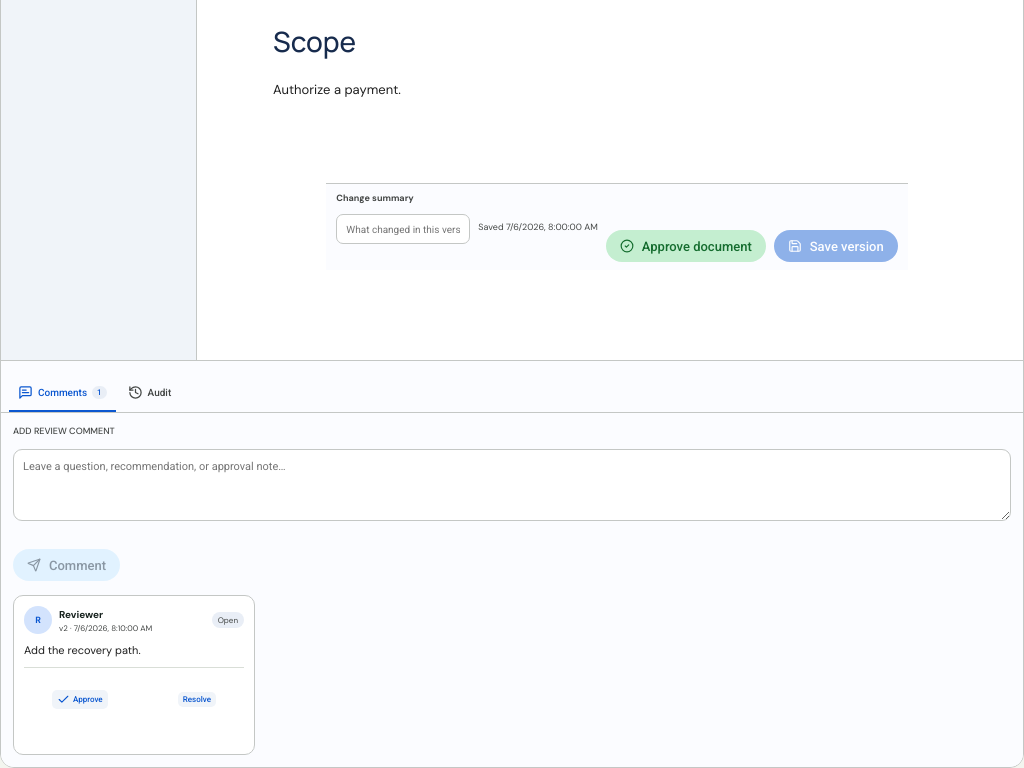
it: shows review state, comments, and audit-preserved versions
The image size is (1024, 768).
(page scrolled)
Expected: the text "Add the recovery path." is shown, [24,643,141,657]
Expected: the button "Approve document" is shown, [606,230,766,262]
Click the button "Audit": (149, 393) [119,374,180,412]
(page scrolled)
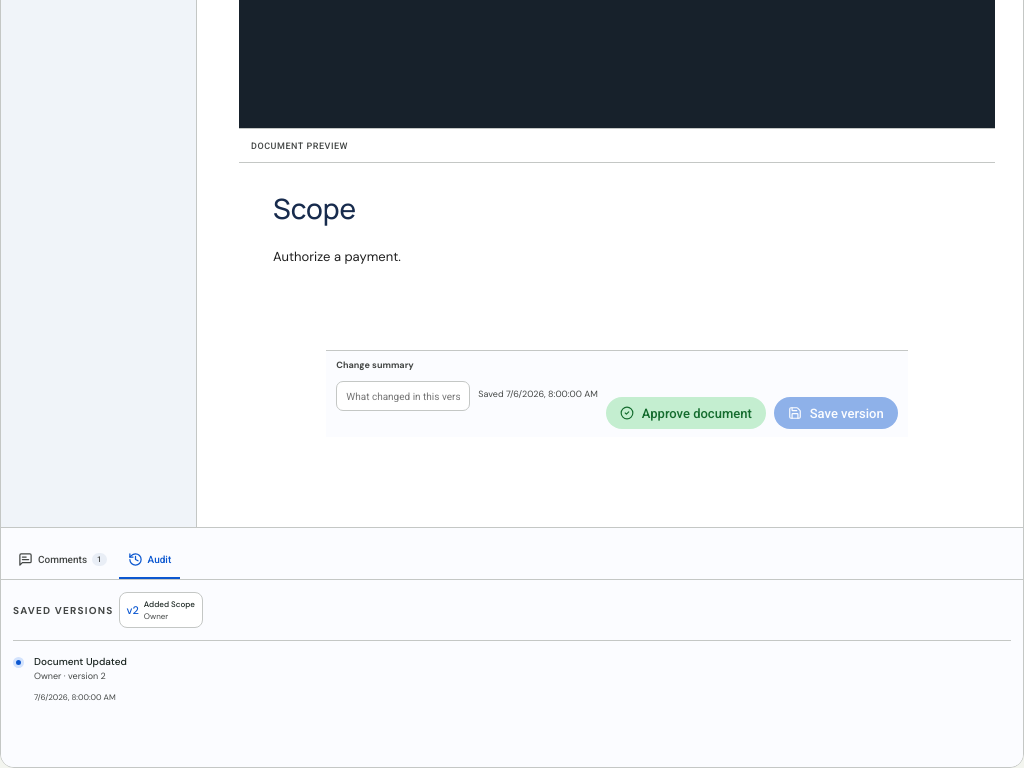
Result: the button "v2 Added scope Owner" is shown at [118,592,203,628]
Result: the text "document updated" is shown at [34,655,127,668]
